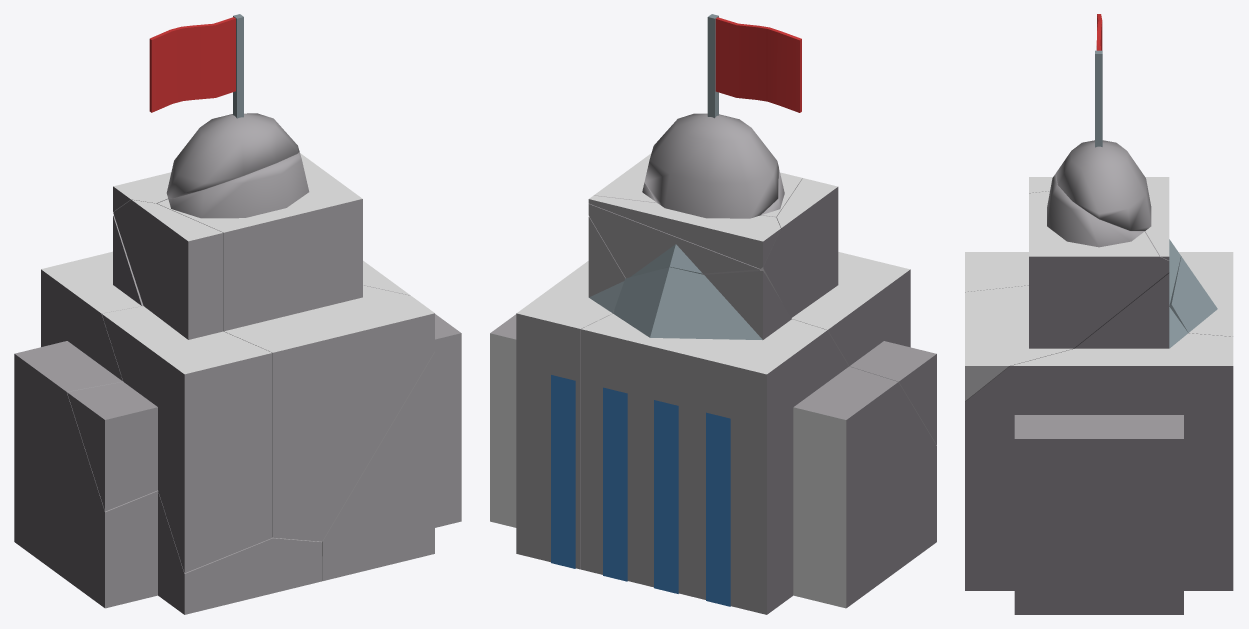
Rendered from HeadQuarter_cell.fbx.
The picture shows the model from 3 angles, left to right: view 1: azimuth 30°, elevation 25°; view 2: azimuth 150°, elevation 25°; view 3: azimuth 270°, elevation 25°; orthographic projection. The views are drawn at different scales.
Visible parts, largest first — view 1: HeadQuarter_cell.002, HeadQuarter_cell.004, HeadQuarter_cell.001, HeadQuarter_cell.005, HeadQuarter_cell.003, HeadQuarter_cell.006; view 2: HeadQuarter_cell.001, HeadQuarter_cell.005, HeadQuarter_cell.004, HeadQuarter_cell.003, HeadQuarter_cell.002, HeadQuarter_cell.006; view 3: HeadQuarter_cell.005, HeadQuarter_cell.002, HeadQuarter_cell.003, HeadQuarter_cell.001, HeadQuarter_cell.004, HeadQuarter_cell.006.
Part boxes in pixels (x1=…): HeadQuarter_cell.002: x1=156, y1=151, x2=434, y2=541; HeadQuarter_cell.004: x1=67, y1=200, x2=272, y2=573; HeadQuarter_cell.001: x1=14, y1=215, x2=321, y2=614; HeadQuarter_cell.005: x1=322, y1=260, x2=461, y2=581; HeadQuarter_cell.003: x1=113, y1=113, x2=299, y2=211; HeadQuarter_cell.006: x1=149, y1=14, x2=243, y2=118; HeadQuarter_cell.001: x1=581, y1=267, x2=936, y2=614; HeadQuarter_cell.005: x1=490, y1=217, x2=625, y2=569; HeadQuarter_cell.004: x1=763, y1=178, x2=936, y2=445; HeadQuarter_cell.003: x1=588, y1=113, x2=780, y2=268; HeadQuarter_cell.002: x1=588, y1=153, x2=802, y2=278; HeadQuarter_cell.006: x1=707, y1=14, x2=801, y2=118; HeadQuarter_cell.005: x1=965, y1=273, x2=1233, y2=614; HeadQuarter_cell.002: x1=965, y1=173, x2=1180, y2=401; HeadQuarter_cell.003: x1=1056, y1=140, x2=1169, y2=260; HeadQuarter_cell.001: x1=1169, y1=252, x2=1233, y2=336; HeadQuarter_cell.004: x1=965, y1=177, x2=1052, y2=292; HeadQuarter_cell.006: x1=1095, y1=14, x2=1102, y2=147.
Bounding box in the file's own units: 205 × 285 × 144.
